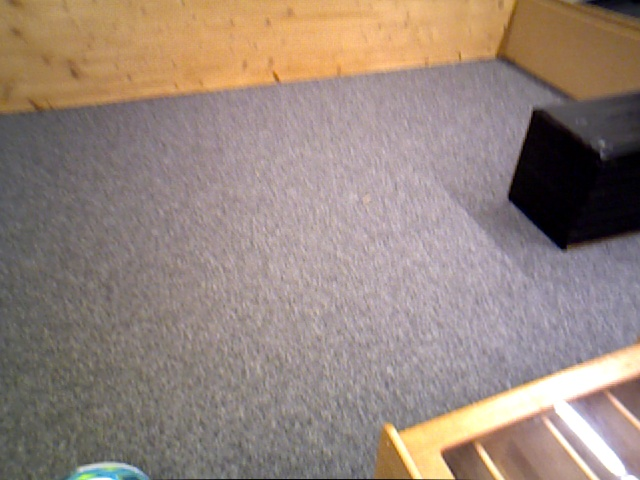kick: (63, 462, 151, 480)
push: (508, 88, 640, 250)
